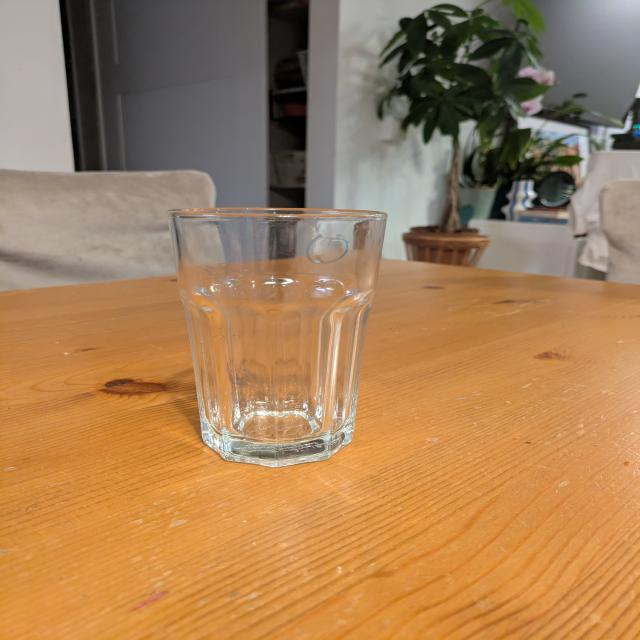mazak: (307, 232, 351, 266)
mazak g1: (168, 206, 388, 468)
